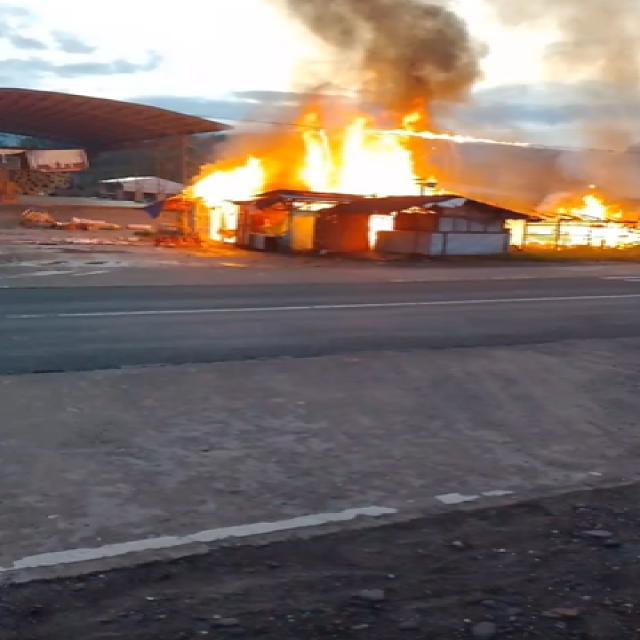Fire: (294, 104, 448, 200), (178, 156, 271, 245), (503, 194, 640, 248), (370, 216, 400, 246)
Smoke: (304, 0, 486, 123)
